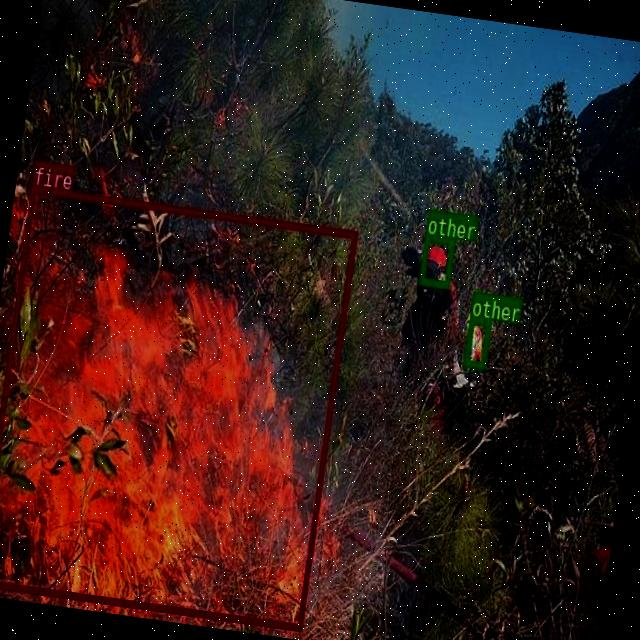fire: (0, 184, 357, 630)
